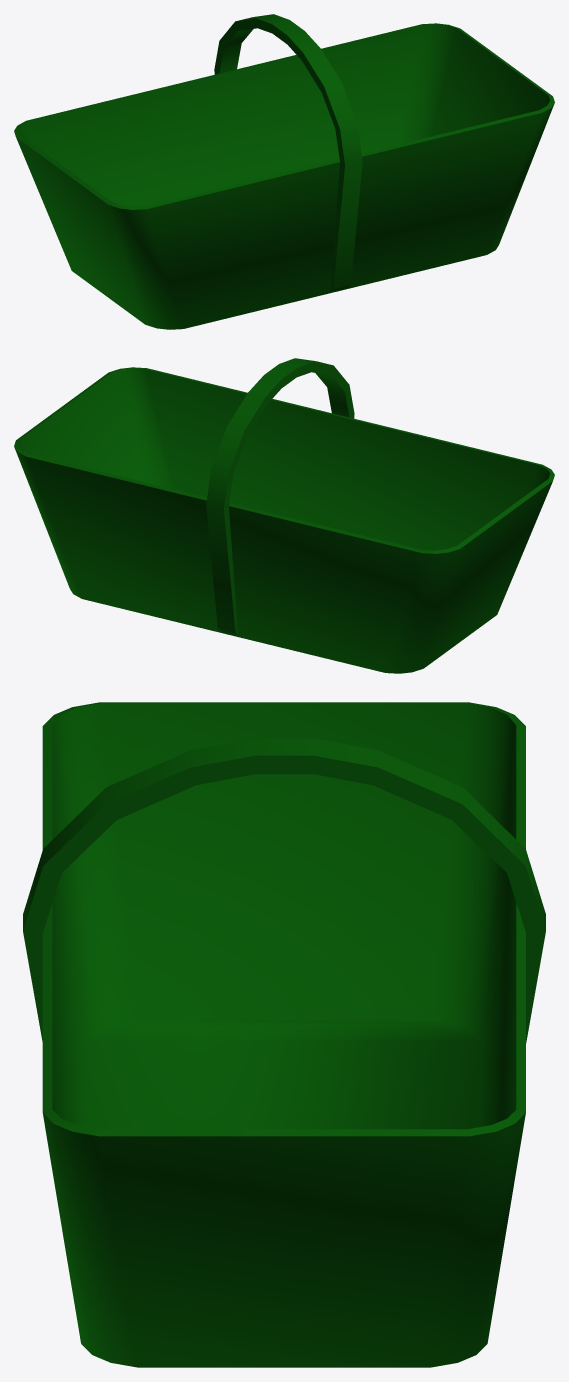
Rendered from hamper04.FBX.
3 renders of one model, top to bottom at view 1: azimuth 30°, elevation 25°; view 2: azimuth 150°, elevation 25°; view 3: azimuth 270°, elevation 25°, orthographic. The views are drawn at different scales.
Visible parts, largest first — view 1: SM_hamper04_0; view 2: SM_hamper04_0; view 3: SM_hamper04_0.
Boxes of the visible parts, bbox=[...] form: SM_hamper04_0: bbox=[14, 14, 554, 329]; SM_hamper04_0: bbox=[14, 358, 554, 673]; SM_hamper04_0: bbox=[23, 702, 545, 1367].
Size of the model in its own units: 50.51 by 25.73 by 24.56.
